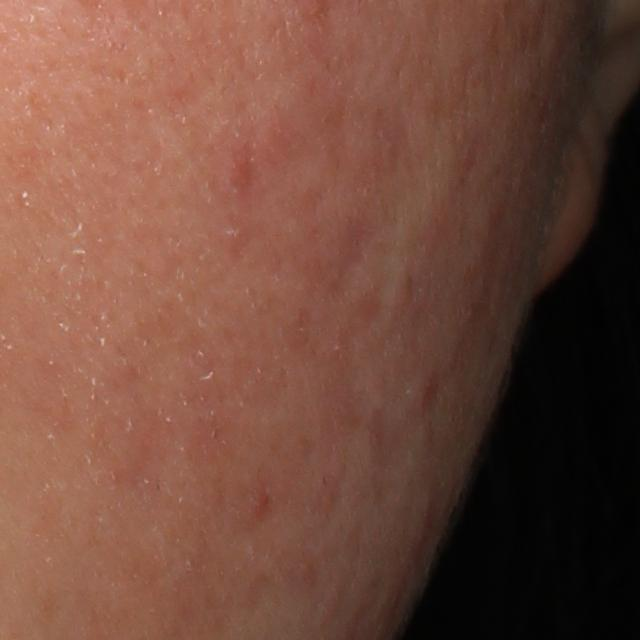papule: (223, 149, 261, 189)
